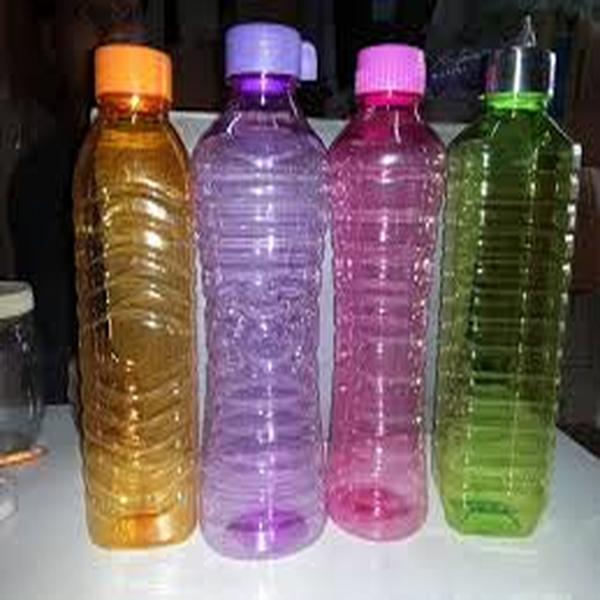tutuma: (453, 23, 586, 571), (63, 29, 192, 586), (201, 10, 324, 559), (334, 12, 449, 549)
